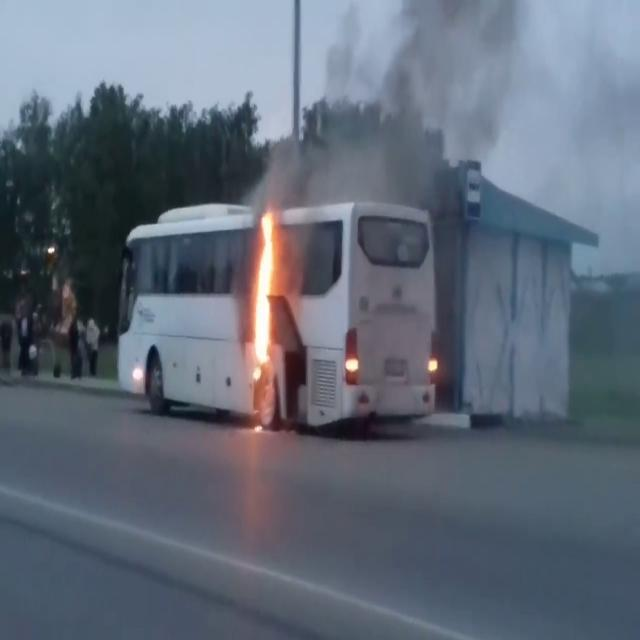Fire: (251, 201, 279, 383)
Smoke: (282, 1, 534, 227)
